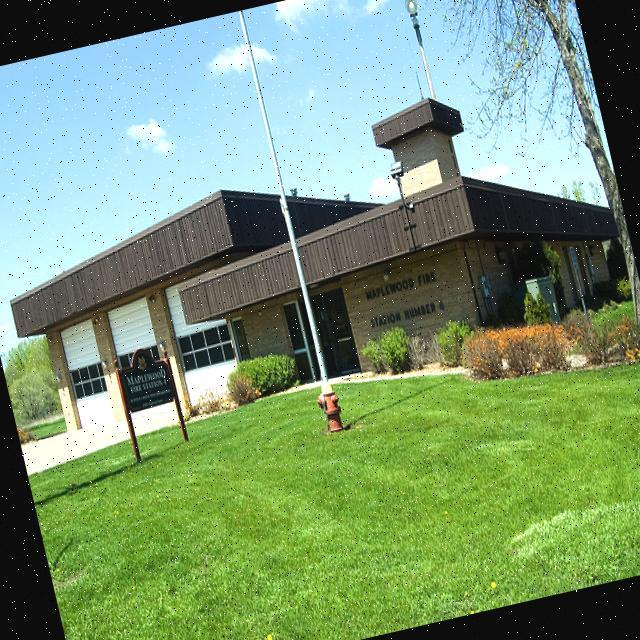fire_hydrant: (313, 377, 347, 435)
